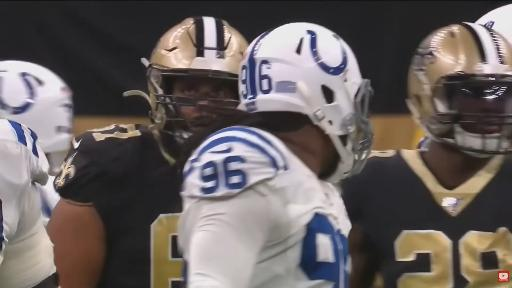Helmet: (239, 23, 373, 182), (125, 17, 247, 139), (407, 23, 511, 157), (0, 61, 73, 173), (476, 4, 511, 42)
Jersey: (179, 126, 351, 287), (343, 150, 511, 287), (54, 125, 181, 287), (0, 120, 55, 287), (38, 176, 59, 226)
Player: (48, 17, 247, 287), (179, 23, 372, 287), (342, 23, 511, 287), (0, 61, 73, 223), (0, 119, 58, 287), (476, 4, 511, 42), (416, 136, 429, 149)
